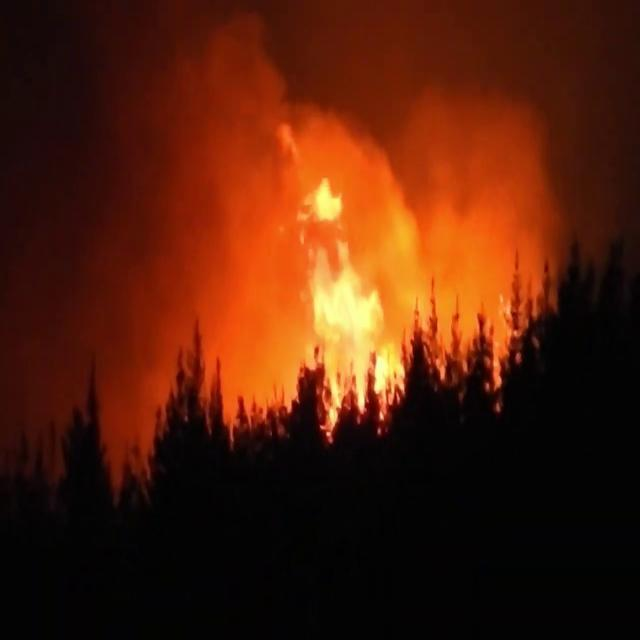Fire: (313, 248, 405, 434), (286, 141, 376, 294)
Smoke: (2, 26, 216, 413)
